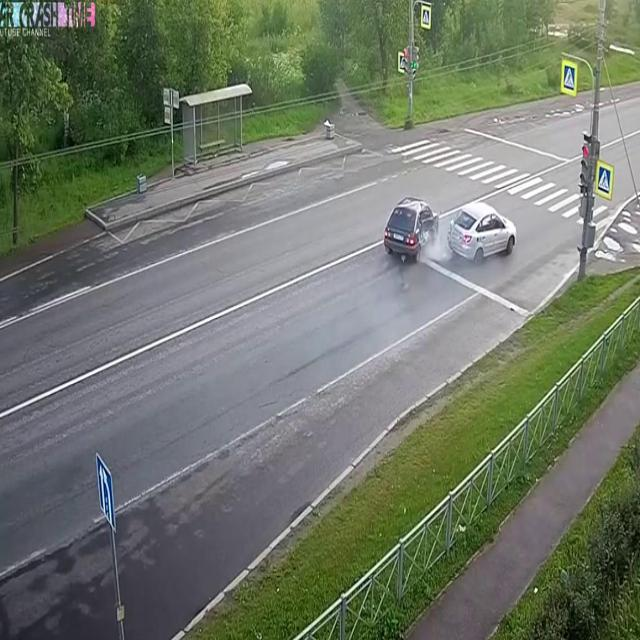accident: (376, 186, 524, 286)
